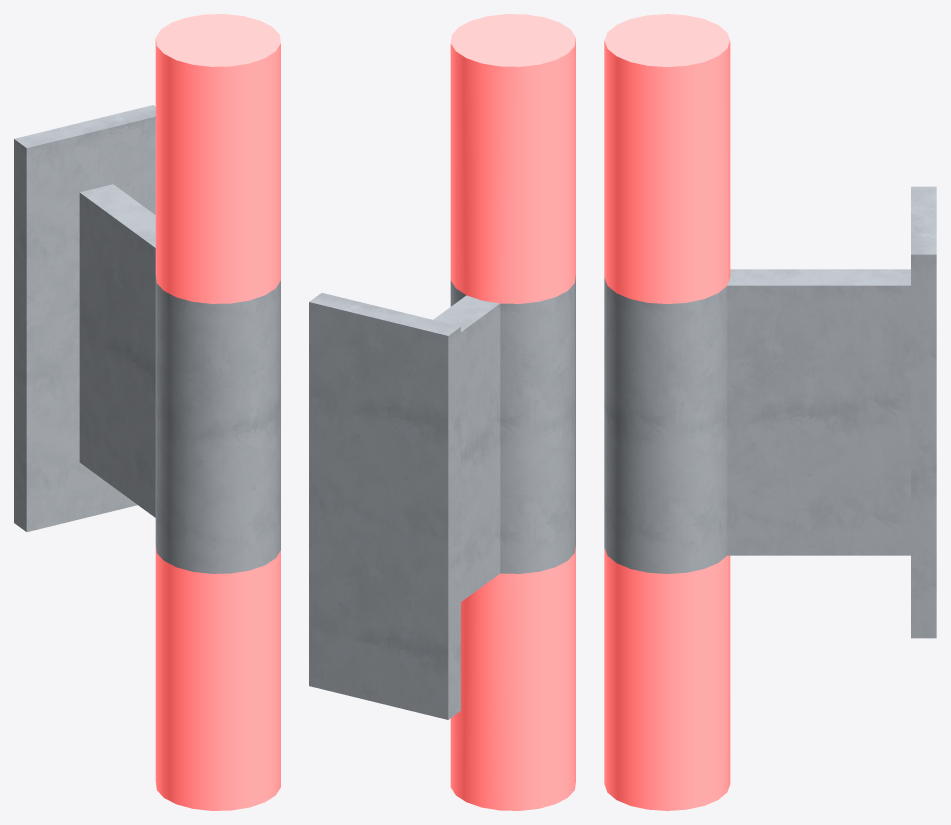
The model's file is SM_WallLamp.fbx.
3 views of the same model, side by side, from view 1: azimuth 30°, elevation 25°; view 2: azimuth 150°, elevation 25°; view 3: azimuth 270°, elevation 25° (orthographic).
Visible parts, largest first — view 1: SM_WallLamp_LOD0; view 2: SM_WallLamp_LOD0; view 3: SM_WallLamp_LOD0.
Boxes of the visible parts, x1,y1,x2,y2 form: SM_WallLamp_LOD0: (14,14,280,810); SM_WallLamp_LOD0: (309,14,575,810); SM_WallLamp_LOD0: (604,14,936,810).
Bounding box in the file's own units: 12.78 × 65.23 × 26.39.
2 materials, 1 textured.
